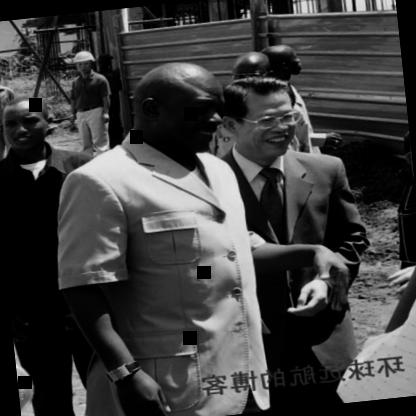head: (119, 51, 230, 160), (220, 60, 303, 162), (0, 90, 59, 160), (260, 38, 306, 80), (228, 50, 273, 92), (0, 69, 6, 90)
helmet: (72, 45, 98, 78)
